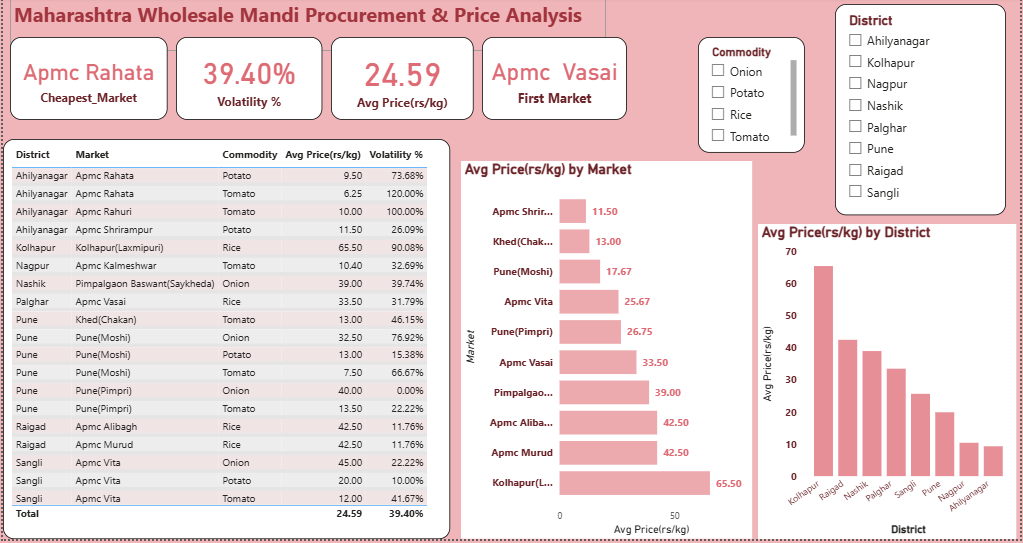

This screenshot's page, from the dashboard's own definition file:
{"tool":"powerbi","page":{"name":"Page 1","canvas":[1361,726],"ordinal":0},"visuals":[{"type":"textbox","box":[9.8,0,798.3,72.7],"z":0},{"type":"slicer","fields":{"Values":["mandi_prices.Commodity"]},"box":[930.8,54.2,143.1,155.1],"z":1000},{"type":"slicer","fields":{"Values":["mandi_prices.District"]},"box":[1114.5,9.4,229.1,282.6],"z":2000},{"type":"card","fields":{"Values":["mandi_prices.Avg Price(rs/kg)"]},"box":[439.8,54.2,191.3,111.5],"z":3000},{"type":"card","fields":{"Values":["mandi_prices.Cheapest_Market"]},"box":[9,54.2,210.9,111.5],"z":4000},{"type":"card","fields":{"Values":["mandi_prices.Volatility %"]},"box":[232,54.2,195.8,111.5],"z":5000},{"type":"card","fields":{"Values":["Min(mandi_prices.Market)"]},"box":[641.6,53.6,194.2,111.2],"z":6000},{"type":"clusteredBarChart","fields":{"Category":["mandi_prices.Market"],"Y":["mandi_prices.Avg Price(rs/kg)"]},"box":[613,219.9,390.1,506.1],"z":7000},{"type":"clusteredColumnChart","fields":{"Category":["mandi_prices.District"],"Y":["mandi_prices.Avg Price(rs/kg)"]},"box":[1010.7,304.3,346.4,421.7],"z":8000},{"type":"tableEx","fields":{"Values":["mandi_prices.District","mandi_prices.Market","mandi_prices.Commodity","mandi_prices.Avg Price(rs/kg)","mandi_prices.Volatility %"]},"box":[0,189.8,599,536.2],"z":9000}]}

Visuals, with their boxes in screenshot pixels (x1, y1, x2, y2), scaled from the page's 1361x726 canvas onto the 1023x543 screenshot:
textbox: rect(7, 0, 607, 54)
slicer - mandi_prices.Commodity: rect(700, 41, 807, 157)
slicer - mandi_prices.District: rect(838, 7, 1010, 218)
card - mandi_prices.Avg Price(rs/kg): rect(331, 41, 474, 124)
card - mandi_prices.Cheapest_Market: rect(7, 41, 165, 124)
card - mandi_prices.Volatility %: rect(174, 41, 322, 124)
card - Min(mandi_prices.Market): rect(482, 40, 628, 123)
clusteredBarChart - mandi_prices.Market x mandi_prices.Avg Price(rs/kg): rect(461, 164, 754, 542)
clusteredColumnChart - mandi_prices.District x mandi_prices.Avg Price(rs/kg): rect(760, 228, 1020, 542)
tableEx - mandi_prices.District x mandi_prices.Market: rect(0, 142, 450, 542)
